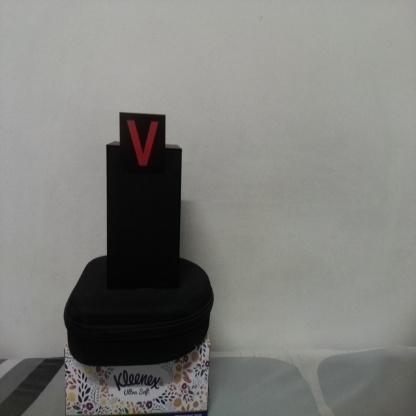id_11: (120, 113, 166, 182)
